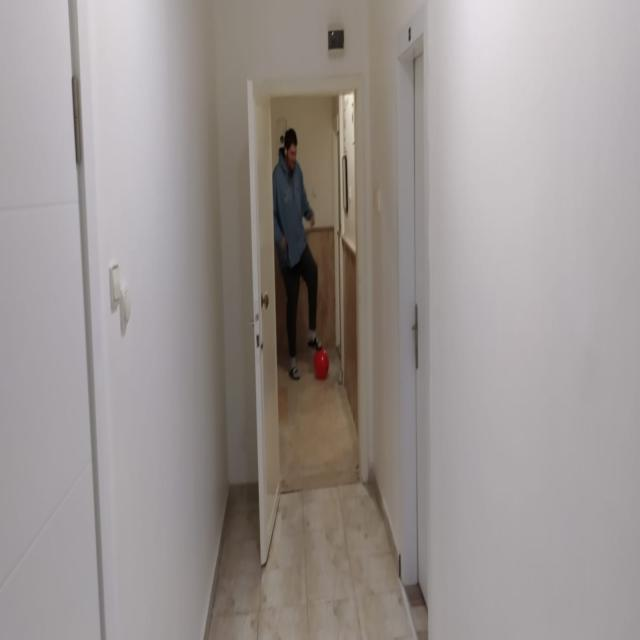balloon: (312, 337, 332, 382)
